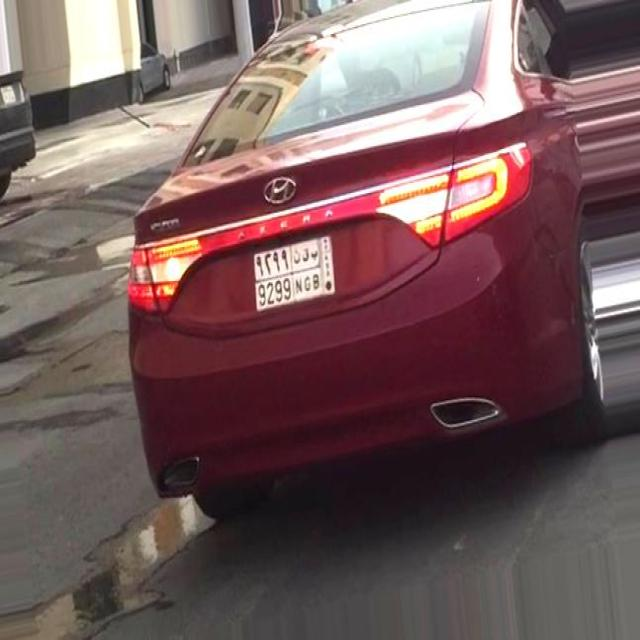Car-plate: (249, 235, 339, 318)
